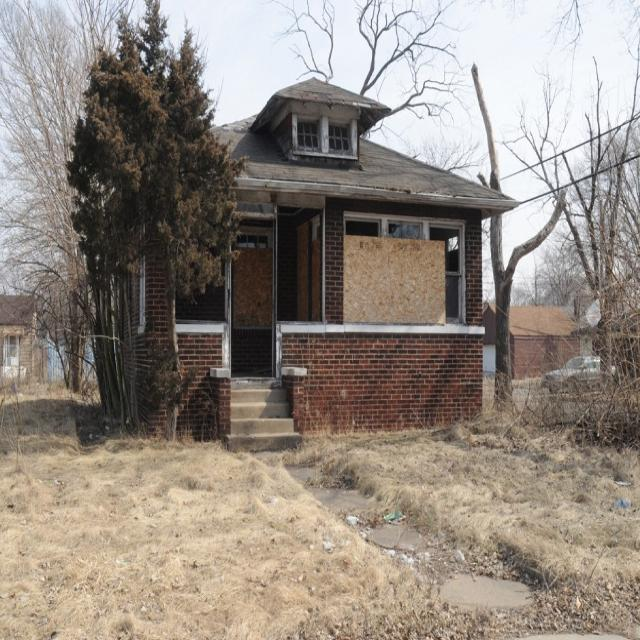House: (123, 81, 517, 450)
